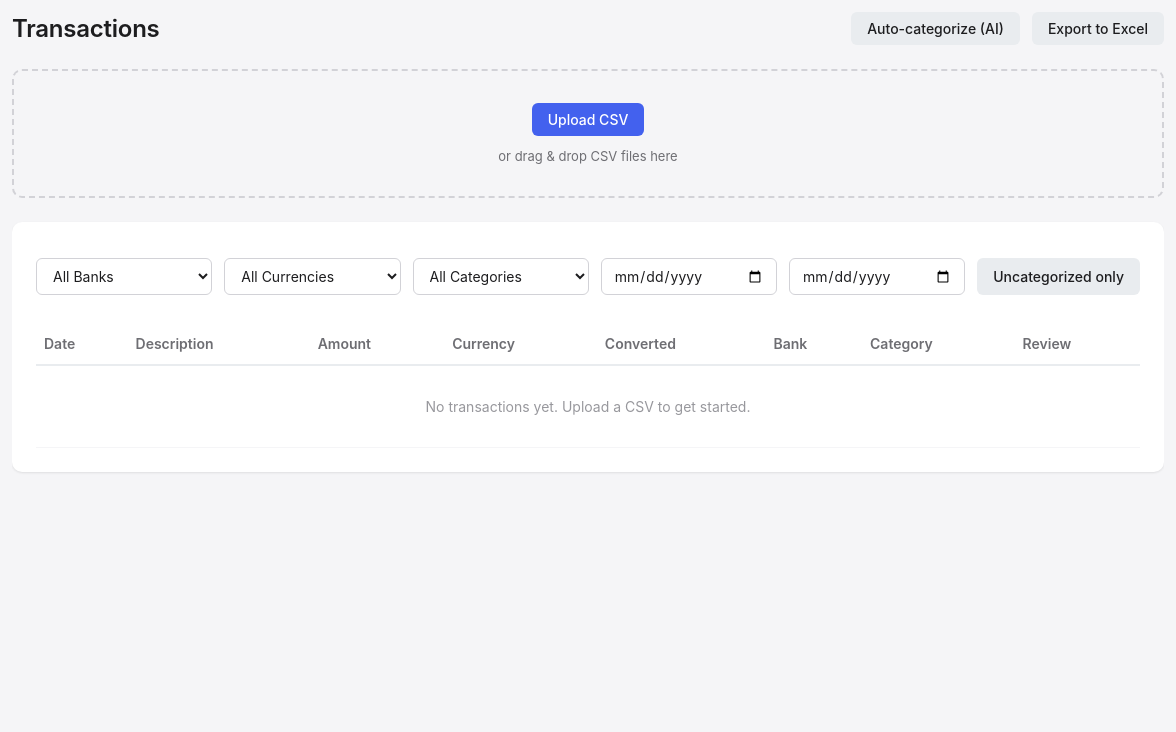
Test: TransactionsPage › auto-categorizes and reports the outcome
Step 1. Click the button "Auto-categorize (AI)" → {"x": 936, "y": 28}, box [851, 12, 1020, 45]
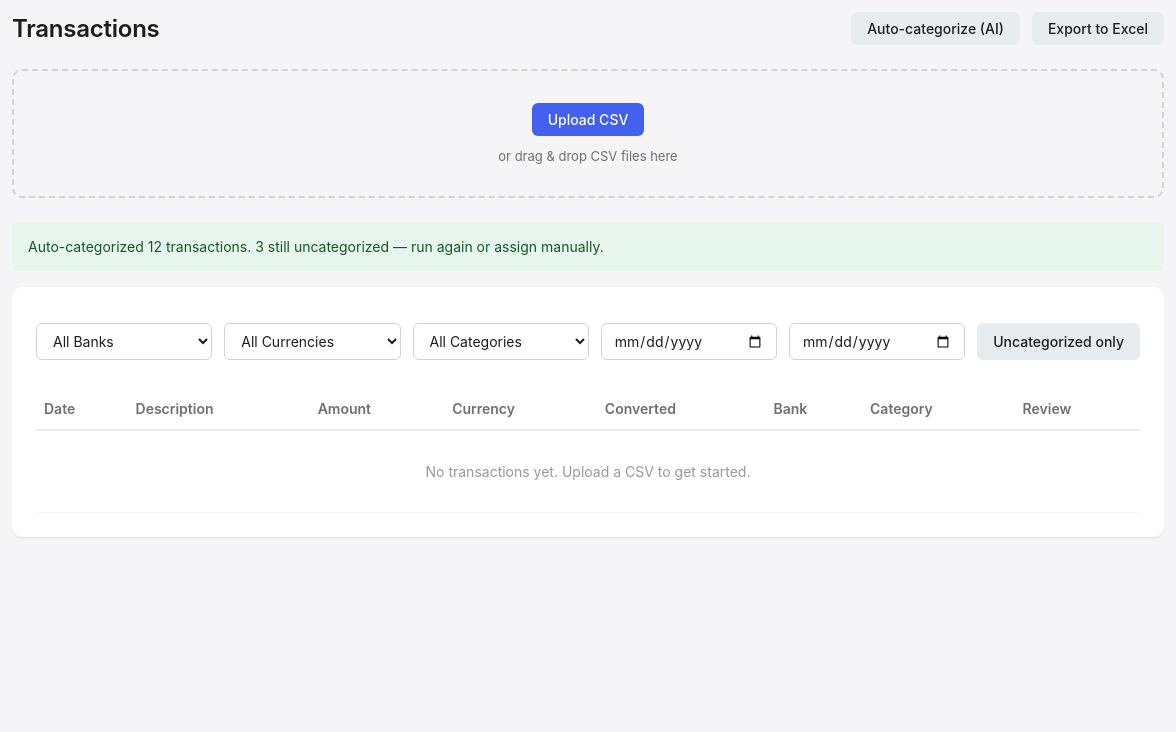
Expected: the text "Auto-categorized 12 transactions" is shown, [28, 238, 604, 255]
Expected: the text "3 still uncategorized" is shown, [251, 238, 604, 255]
